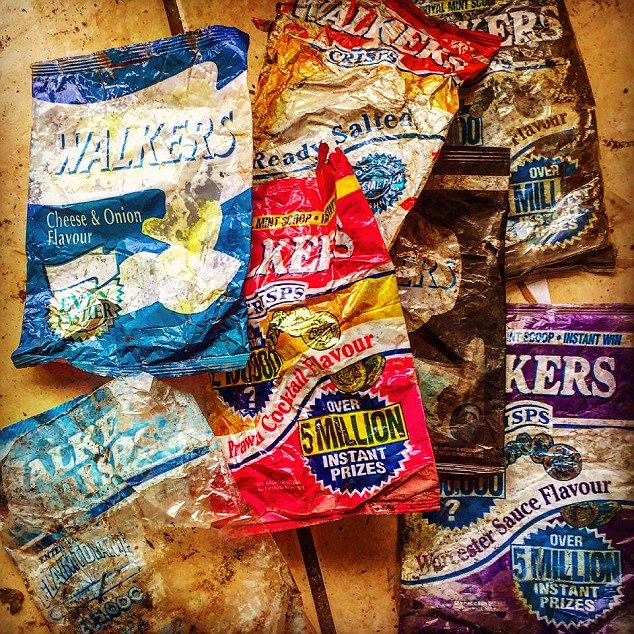wrapper: (188, 149, 457, 539), (15, 25, 264, 378), (1, 366, 316, 633), (390, 299, 634, 634), (243, 2, 509, 250), (408, 1, 628, 283)
